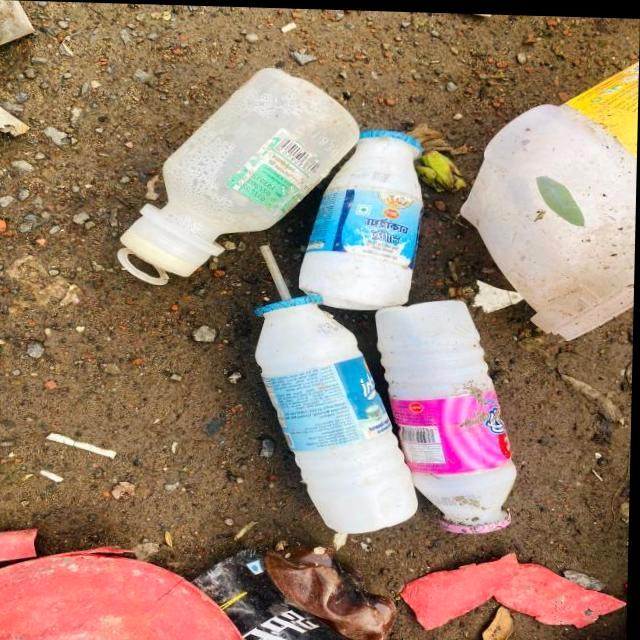bottle: (226, 254, 534, 562), (80, 22, 369, 316), (454, 58, 639, 359), (287, 109, 455, 325)
